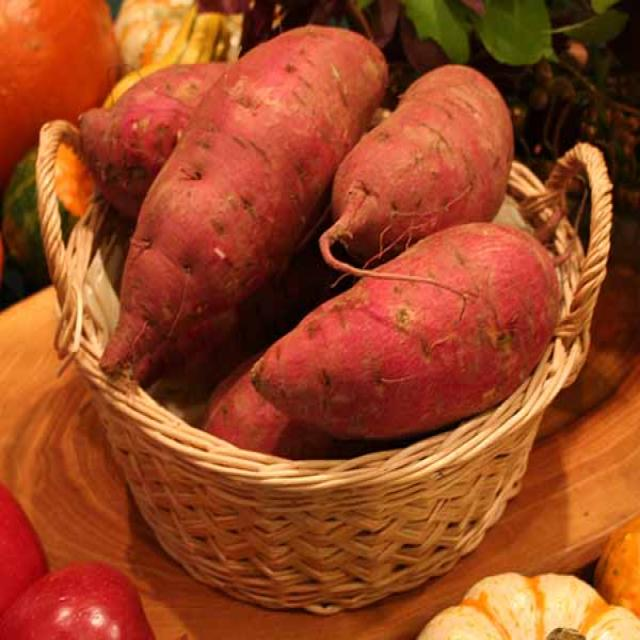sweet potato: (101, 27, 388, 385), (251, 223, 560, 439), (325, 66, 514, 265), (80, 62, 228, 216)
